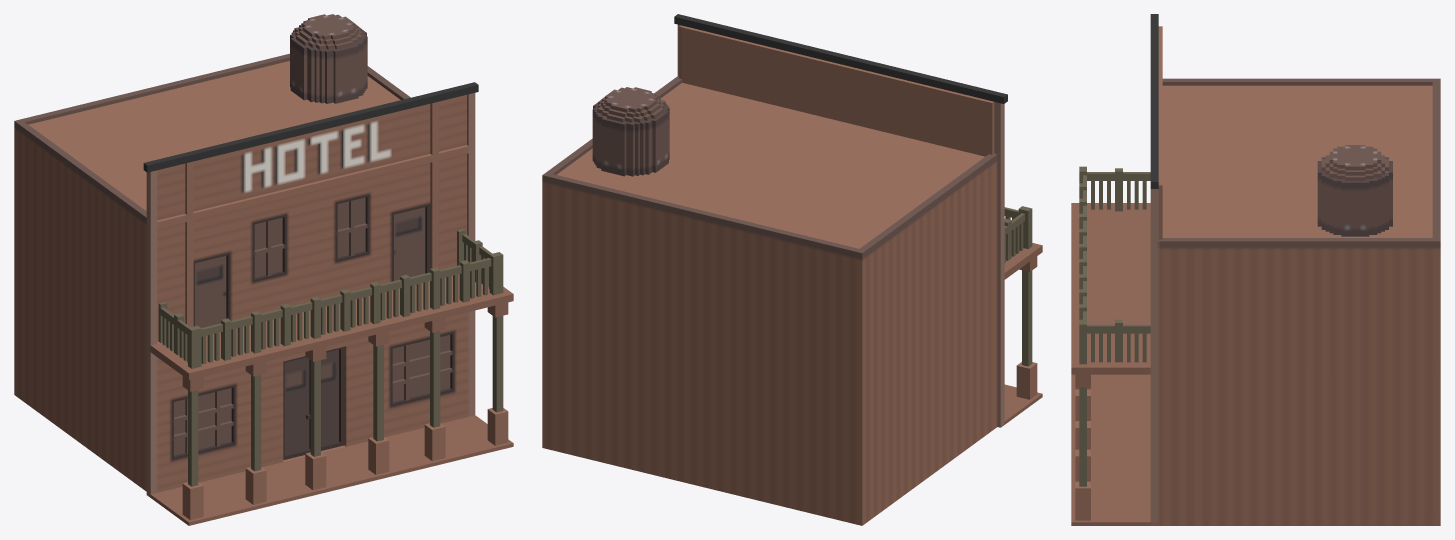
Rendered from Hotel 2.obj.
The picture shows the model from 3 angles, left to right: view 1: azimuth 30°, elevation 25°; view 2: azimuth 150°, elevation 25°; view 3: azimuth 270°, elevation 25°; orthographic projection. The views are drawn at different scales.
Size of the model in its own units: 100 by 96 by 93.
1 material, 1 textured.
